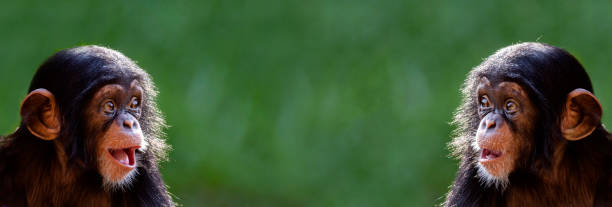chimpanzee: (10, 34, 190, 207), (440, 26, 610, 205)
